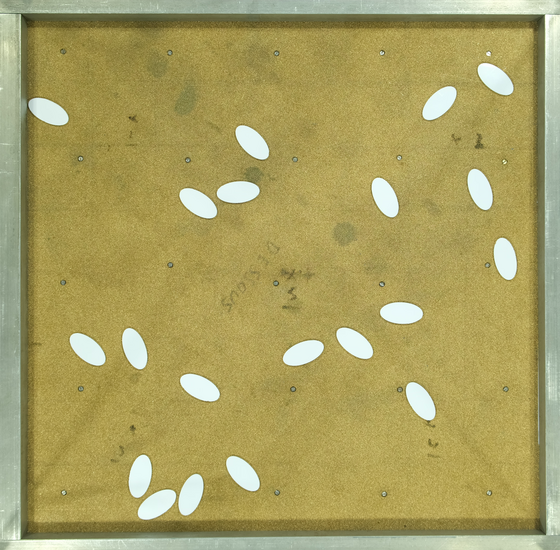pallet: (213, 172, 264, 209), (65, 328, 108, 370), (223, 451, 266, 493), (231, 121, 274, 163), (335, 320, 378, 362), (175, 182, 218, 224), (26, 89, 69, 131), (178, 366, 221, 408), (399, 381, 442, 423), (280, 331, 323, 373), (472, 59, 515, 101), (418, 83, 461, 125), (136, 483, 179, 525), (378, 294, 424, 333), (175, 472, 212, 519), (123, 450, 159, 498), (115, 321, 151, 369), (462, 168, 498, 216), (369, 176, 405, 224), (486, 236, 522, 284)
